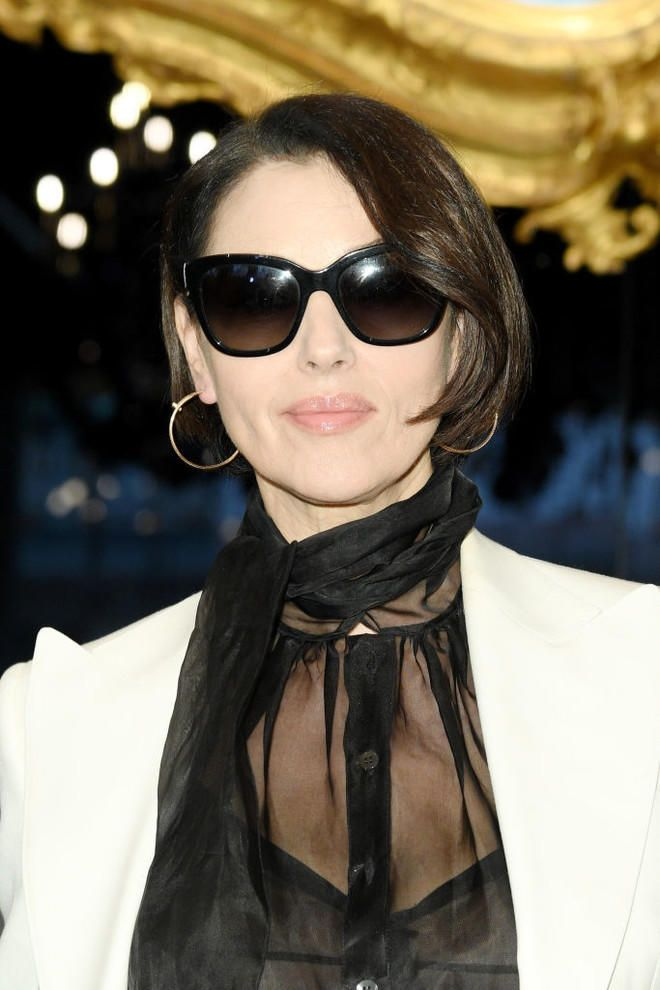glasses: (171, 229, 466, 362)
